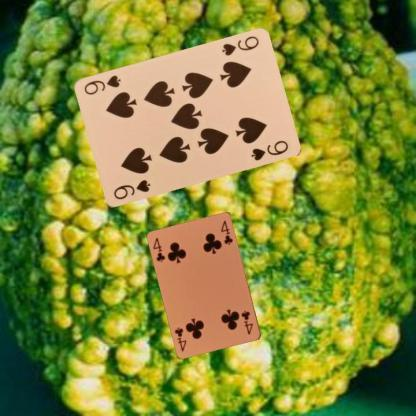4c: (150, 235, 166, 264), (238, 308, 254, 336)
9s: (218, 33, 260, 58), (110, 177, 152, 201)
